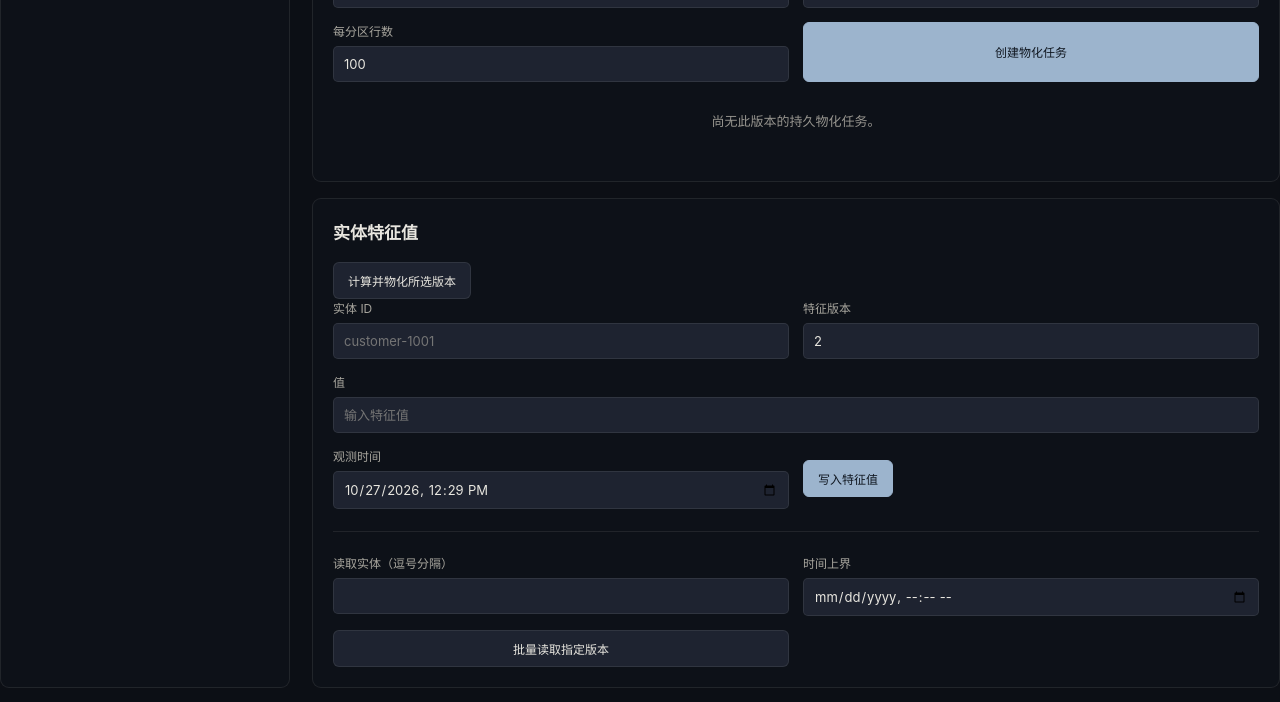
Test case: feature computation workflow › does not claim success when materialization does not return an output receipt
(page scrolled)
Click the button "计算并物化所选版本": (402,281) [333,262,471,299]
(page scrolled)
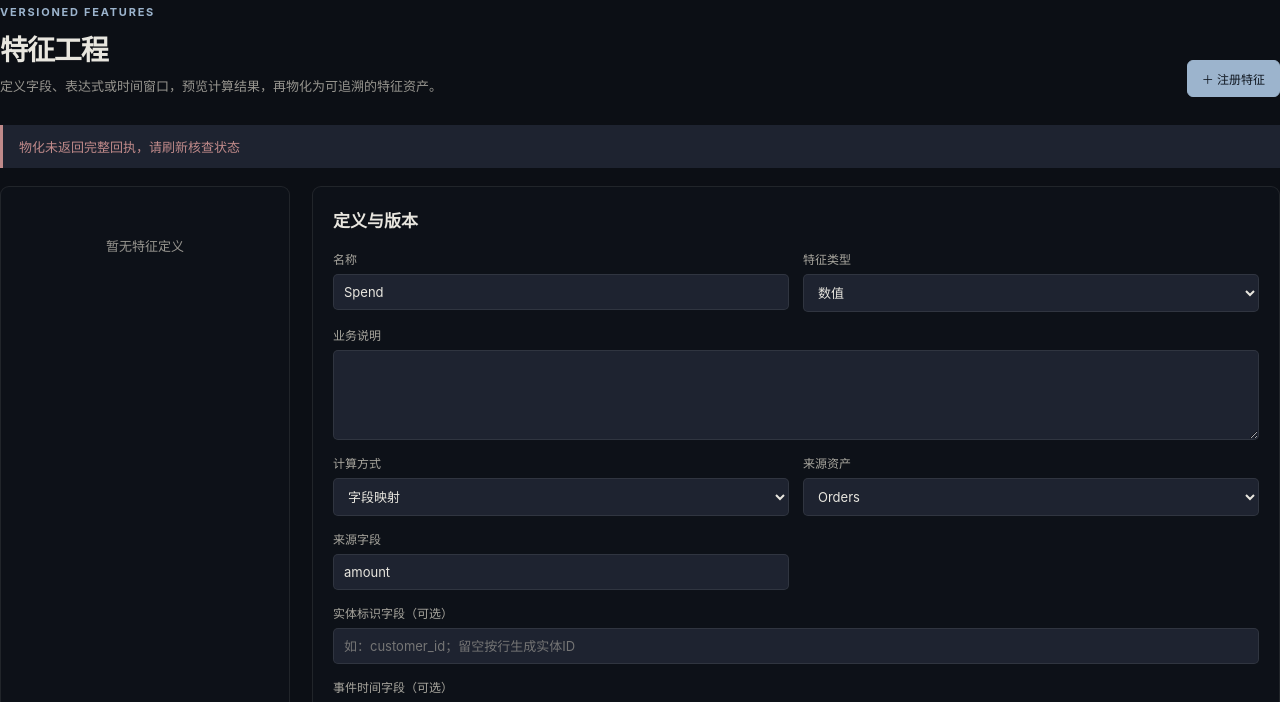
Expected: the message "物化未返回完整回执，请刷新核查状态" is shown, [0,125,1279,168]
